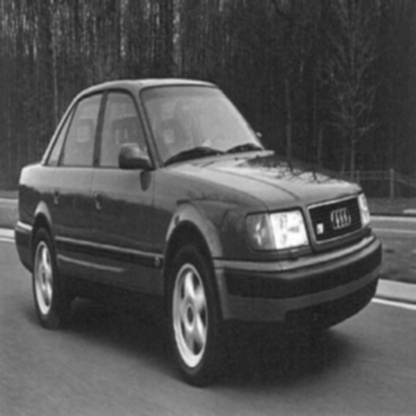Vehicle: (15, 80, 384, 389)
